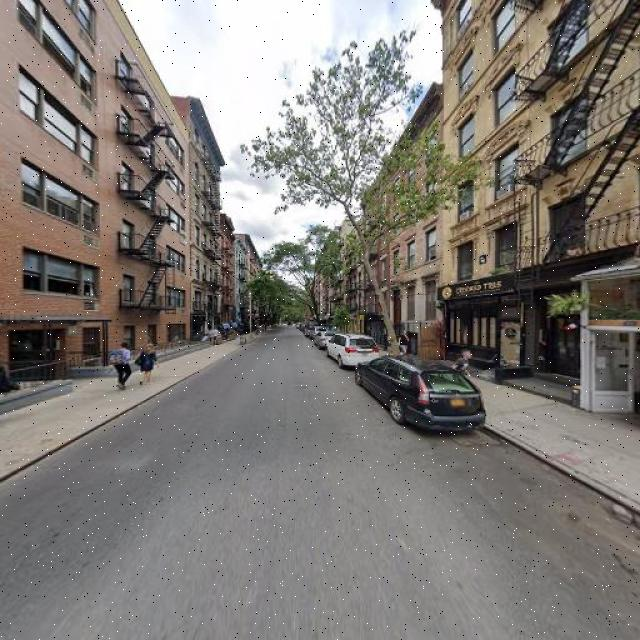Building: (450, 1, 640, 427), (1, 1, 187, 404), (392, 90, 446, 367)
